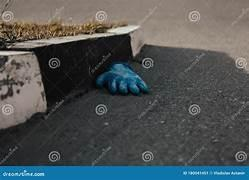Glove: (96, 63, 148, 94)
